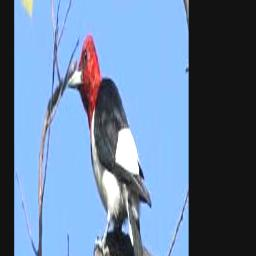Woodpecker: (67, 34, 151, 256)
